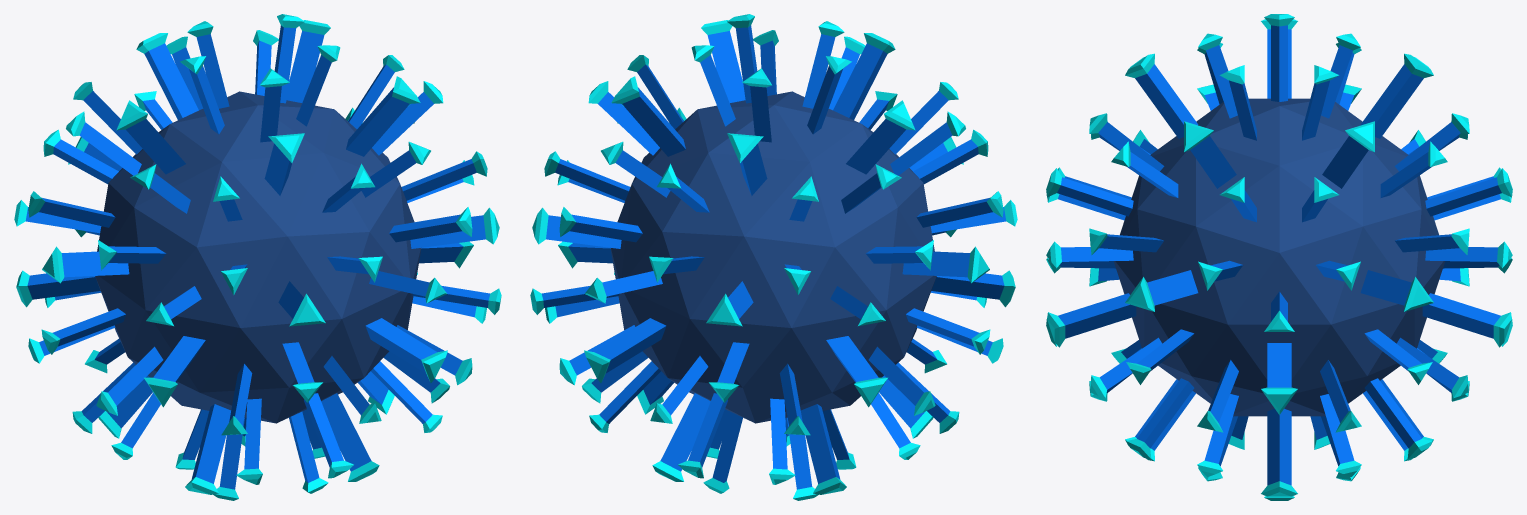
The model's file is virus_1.glb.
3 renders of one model, left to right at view 1: azimuth 30°, elevation 25°; view 2: azimuth 150°, elevation 25°; view 3: azimuth 270°, elevation 25°, orthographic.
Parts seen in each view (by area): view 1: virus_05; view 2: virus_05; view 3: virus_05.
Boxes of the visible parts, left/top/right/bottom form: virus_05: left=14, top=14, right=501, bottom=500; virus_05: left=530, top=14, right=1017, bottom=500; virus_05: left=1046, top=14, right=1512, bottom=500.
Size of the model in its own units: 0.8115 by 0.7896 by 0.7805.
